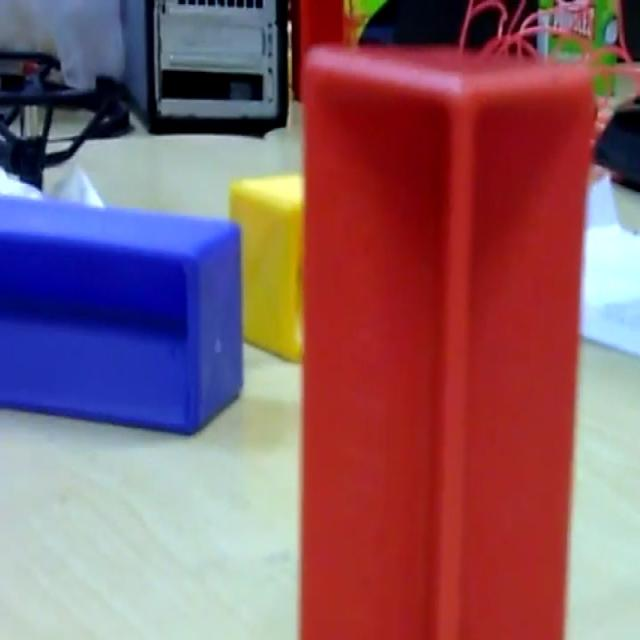blue_block: (0, 189, 244, 436)
red_block: (297, 41, 596, 636)
yellow_block: (227, 170, 305, 362)
